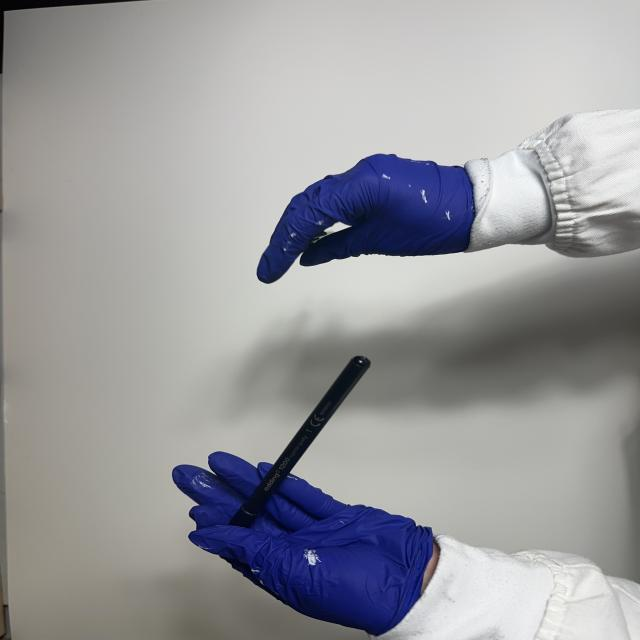gloves_contaminated: (173, 452, 434, 635), (258, 154, 480, 283)
